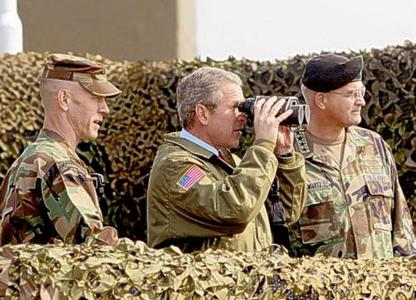person: (144, 66, 308, 258)
